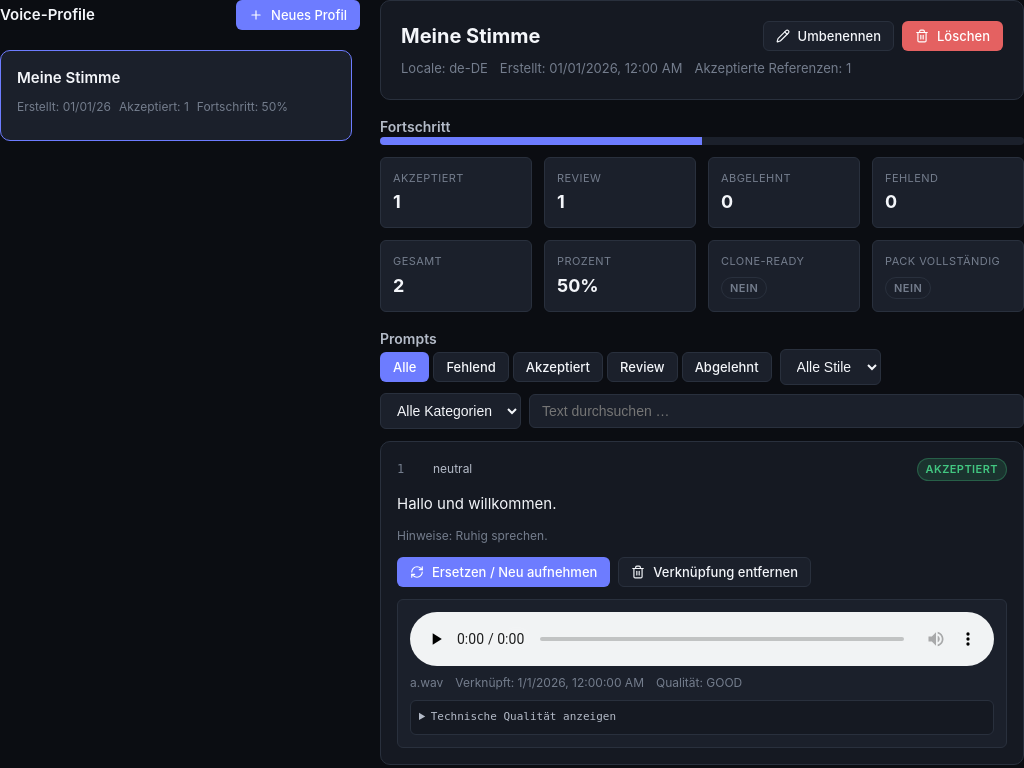
it: VoiceProfilesPanel — delete dialog › opens a dialog that explains WAV files are deleted with the profile
The image size is (1024, 768).
Click the button named "Profil Meine Stimme auswählen".
click(69, 78)  # box [0,50,352,140]
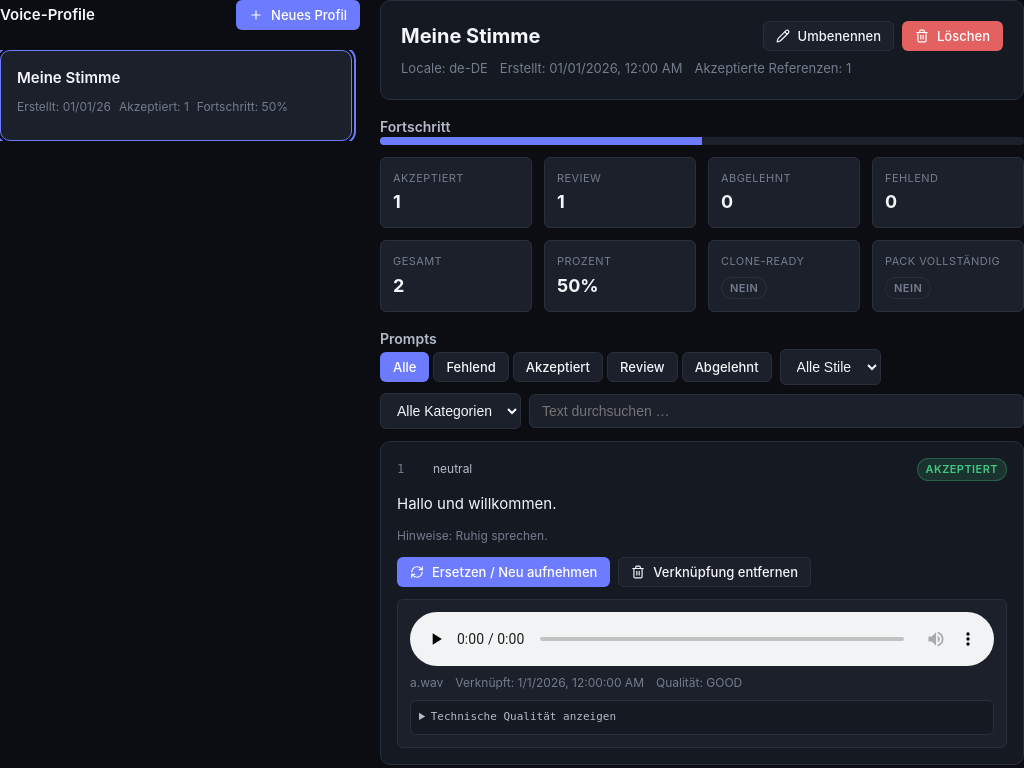
Click the button "Löschen".
click(952, 36)  # box [902,21,1003,51]
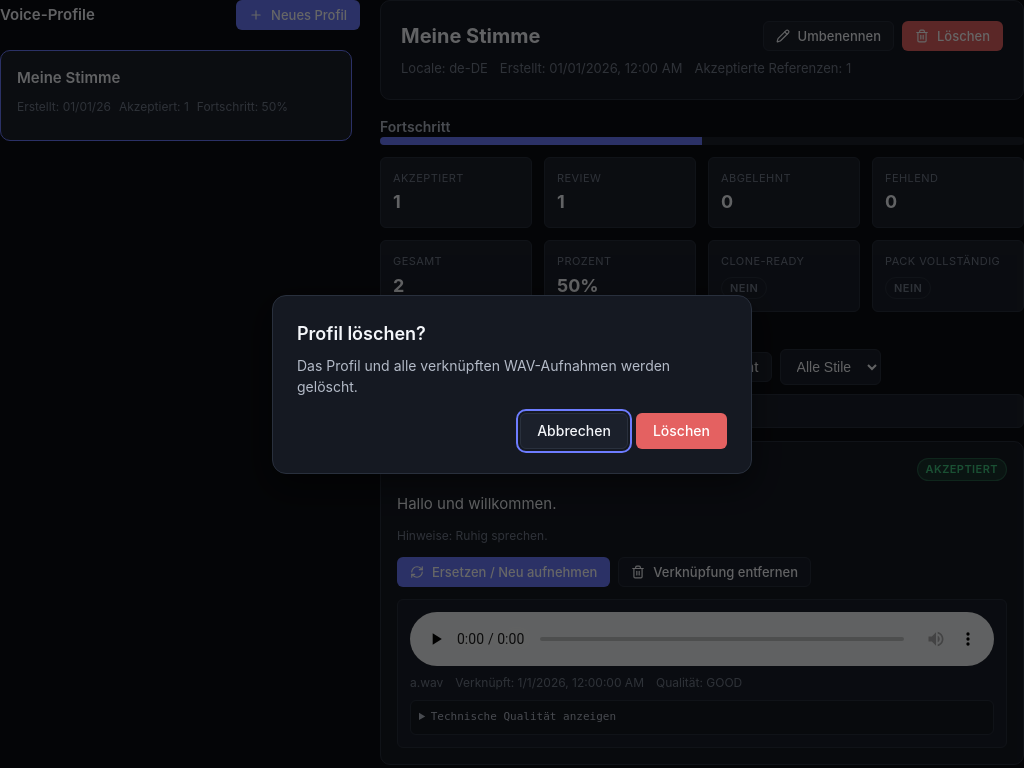
Expected: the heading "Profil löschen?" is shown, [297,322,426,344]
Expected: the text "verknüpften WAV-Aufnahmen werden gelöscht" is shown, [297,356,670,394]
